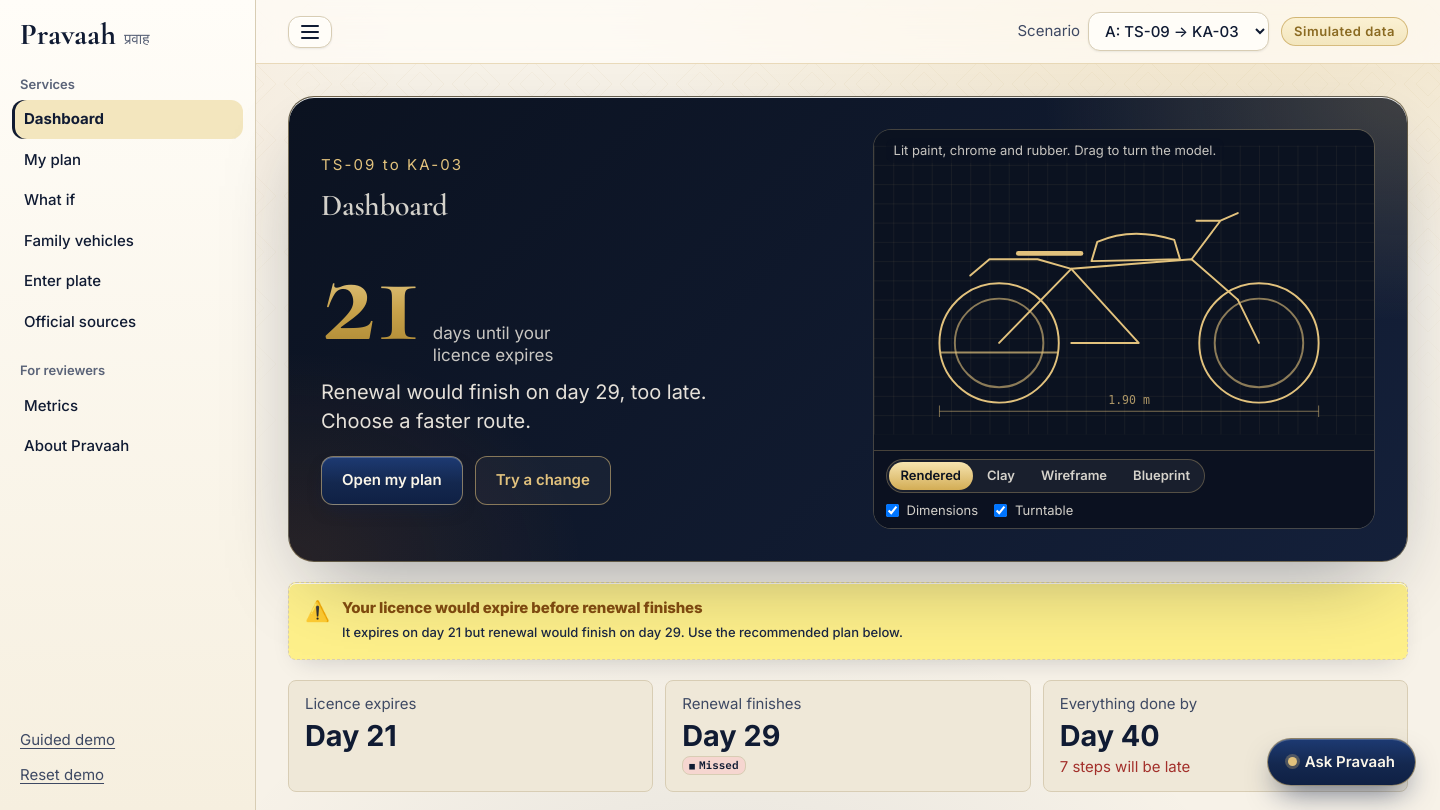
Test: App shell › opens and closes the sidebar on desktop, and remembers the choice
Click the button named "close navigation menu" at (310, 32), box [288,16,332,48]
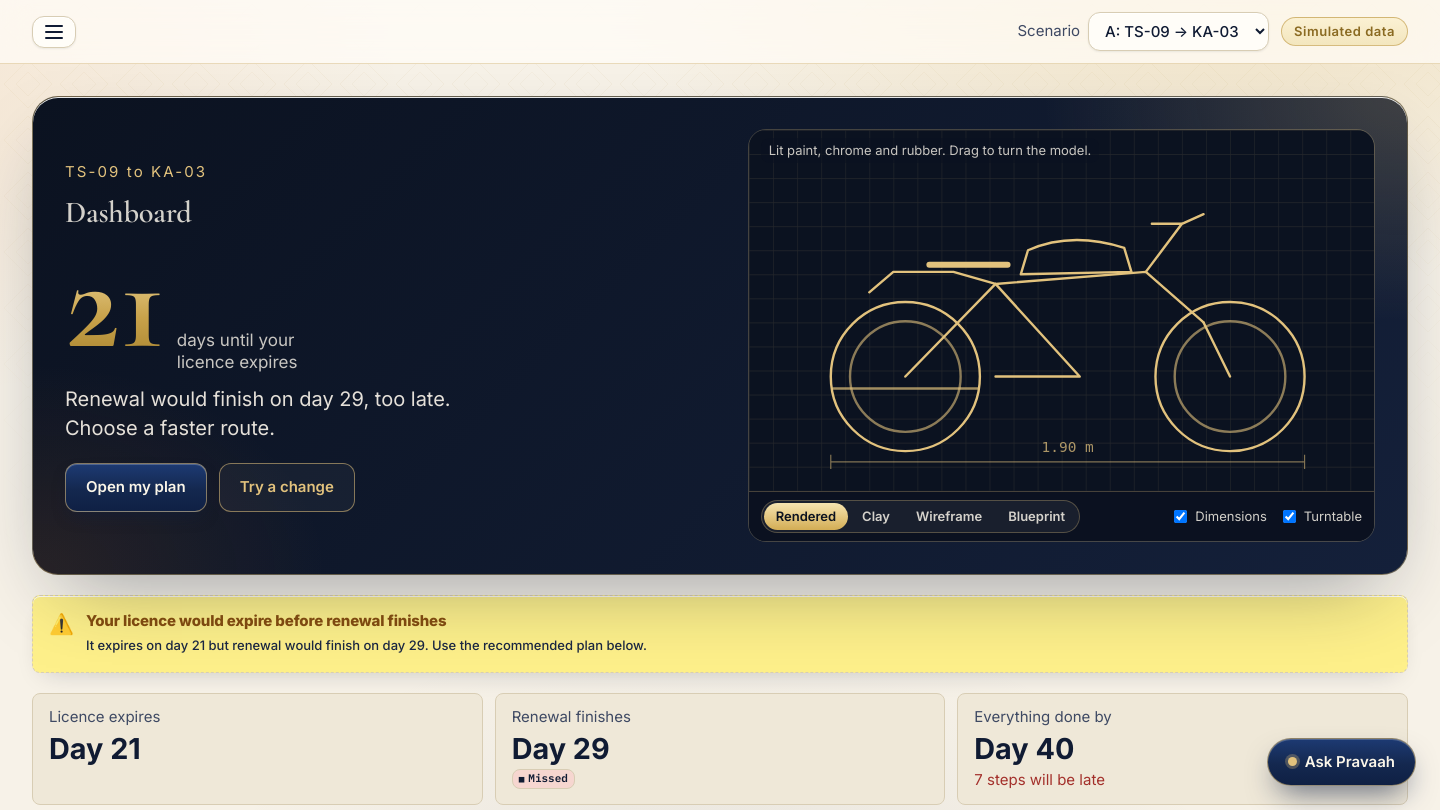
Now the button named "open navigation menu" is collapsed
Click the button named "open navigation menu" at (54, 32), box [32,16,76,48]
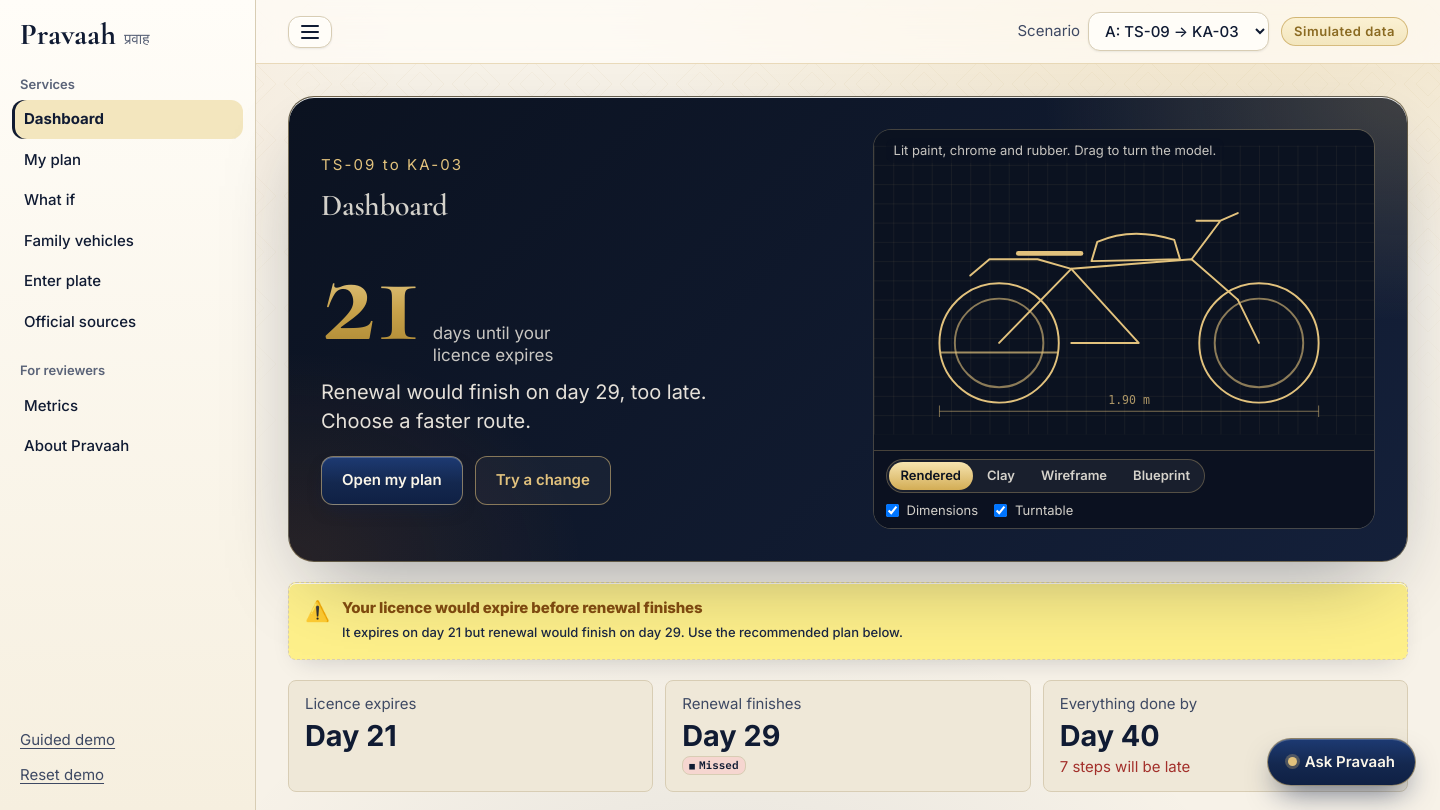
Now the button named "close navigation menu" is expanded, box [288,16,332,48]
